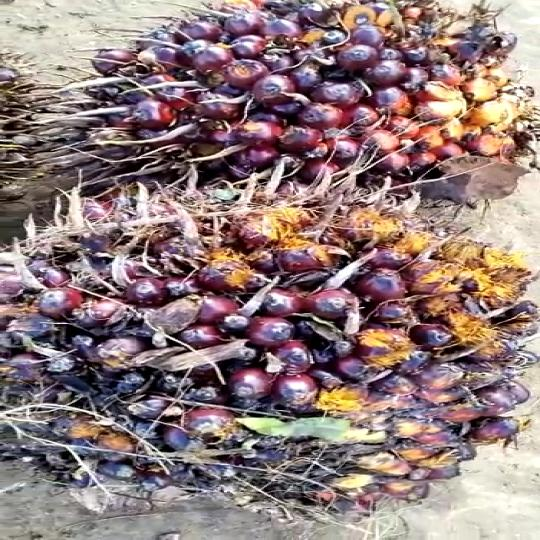masak: (0, 171, 540, 521), (29, 0, 536, 214)
